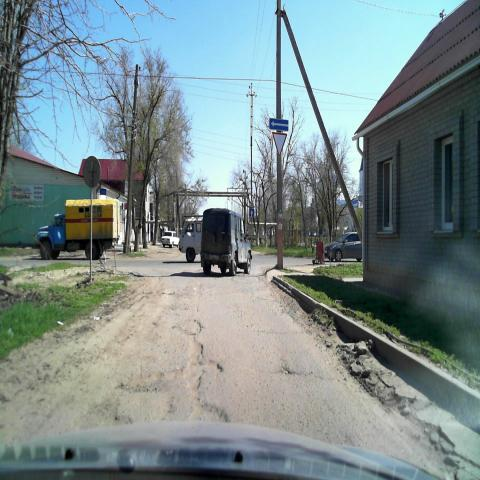5_7_2: (269, 118, 289, 131)
